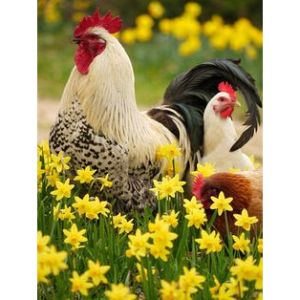hen: (56, 9, 204, 223), (196, 82, 264, 255)
